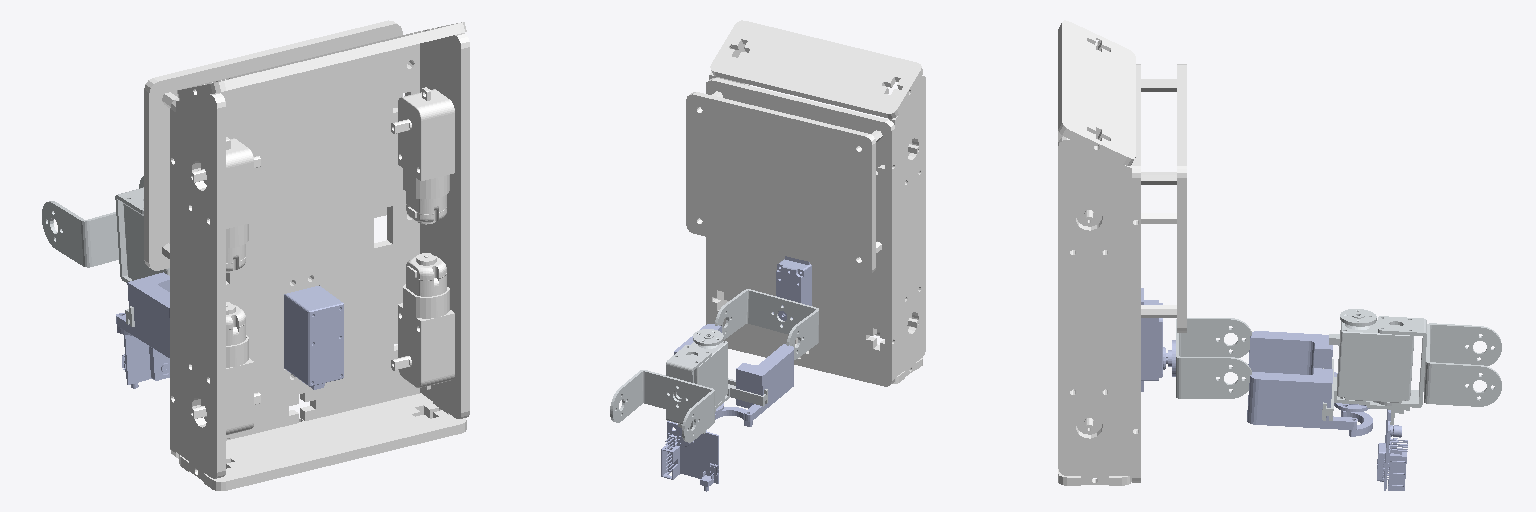
URDF robot description (robot_new):
<?xml version="1.0" encoding="utf-8"?>
<!-- This URDF was automatically created by SolidWorks to URDF Exporter! Originally created by [author] ([email redacted]) 
     Commit Version: 1.6.0-1-g15f4949  Build Version: 1.6.7594.29634
     For more information, please see http://wiki.ros.org/sw_urdf_exporter -->
<robot
  name="robot_new">
  <link
    name="base_link">
    <inertial>
      <origin
        xyz="2.87022176508506E-06 -0.00639288068136572 0.00967770424608871"
        rpy="0 0 0" />
      <mass
        value="0.497669657505291" />
      <inertia
        ixx="0.000851783180399219"
        ixy="6.46330143358181E-17"
        ixz="-6.23492759310972E-09"
        iyy="0.000500153741921466"
        iyz="-5.79025605586052E-06"
        izz="0.00129789764708229" />
    </inertial>
    <visual>
      <origin
        xyz="0 0 0"
        rpy="0 0 0" />
      <geometry>
        <mesh
          filename="package://robot_new/meshes/base_link.STL" />
      </geometry>
      <material
        name="">
        <color
          rgba="1 1 1 0.3" />
      </material>
    </visual>
    <collision>
      <origin
        xyz="0 0 0"
        rpy="0 0 0" />
      <geometry>
        <mesh
          filename="package://robot_new/meshes/base_link.STL" />
      </geometry>
    </collision>
  </link>
  <link
    name="wheel_L1_link">
    <inertial>
      <origin
        xyz="-0.0216007758187577 3.75389996865039E-12 -9.22416777210389E-07"
        rpy="0 0 0" />
      <mass
        value="0.042474382918206" />
      <inertia
        ixx="3.57500681796612E-06"
        ixy="-2.95472805667672E-16"
        ixz="1.17807360696107E-10"
        iyy="3.63018537089276E-06"
        iyz="-2.2638403941711E-15"
        izz="3.63034395206029E-06" />
    </inertial>
    <visual>
      <origin
        xyz="0 0 0"
        rpy="0 0 0" />
      <geometry>
        <mesh
          filename="package://robot_new/meshes/wheel_L1_link.STL" />
      </geometry>
      <material
        name="">
        <color
          rgba="0.831372549019608 0.670588235294118 0.129411764705882 1" />
      </material>
    </visual>
    <collision>
      <origin
        xyz="0 0 0"
        rpy="0 0 0" />
      <geometry>
        <mesh
          filename="package://robot_new/meshes/wheel_L1_link.STL" />
      </geometry>
    </collision>
  </link>
  <joint
    name="wheel_L1_link"
    type="continuous">
    <origin
      xyz="-0.066 -0.028021 -0.079221"
      rpy="-1.9687 0 0" />
    <parent
      link="base_link" />
    <child
      link="wheel_L1_link" />
    <axis
      xyz="1 0 0" />
  </joint>
  <link
    name="wheel_L2_link">
    <inertial>
      <origin
        xyz="-0.0216007758188823 -4.42966605458672E-07 -8.09094121395626E-07"
        rpy="0 0 0" />
      <mass
        value="0.0424743829182387" />
      <inertia
        ixx="3.57500681797244E-06"
        ixy="5.65740745429248E-11"
        ixz="1.03334158552787E-10"
        iyy="3.63022194074399E-06"
        iyz="6.67977120597043E-11"
        izz="3.63030738224077E-06" />
    </inertial>
    <visual>
      <origin
        xyz="0 0 0"
        rpy="0 0 0" />
      <geometry>
        <mesh
          filename="package://robot_new/meshes/wheel_L2_link.STL" />
      </geometry>
      <material
        name="">
        <color
          rgba="0.792156862745098 0.819607843137255 0.933333333333333 1" />
      </material>
    </visual>
    <collision>
      <origin
        xyz="0 0 0"
        rpy="0 0 0" />
      <geometry>
        <mesh
          filename="package://robot_new/meshes/wheel_L2_link.STL" />
      </geometry>
    </collision>
  </link>
  <joint
    name="wheel_L2_joint"
    type="continuous">
    <origin
      xyz="-0.066 -0.028021 0.045779"
      rpy="1.6739 0 0" />
    <parent
      link="base_link" />
    <child
      link="wheel_L2_link" />
    <axis
      xyz="1 0 0" />
  </joint>
  <link
    name="wheel_R1_link">
    <inertial>
      <origin
        xyz="-0.0216007759027148 -4.42966605174178E-07 -8.09094120889087E-07"
        rpy="0 0 0" />
      <mass
        value="0.0424743829435536" />
      <inertia
        ixx="3.57500682562334E-06"
        ixy="5.65740745433874E-11"
        ixz="1.03334158552633E-10"
        iyy="3.6302219525341E-06"
        iyz="6.67977120597837E-11"
        izz="3.63030739403088E-06" />
    </inertial>
    <visual>
      <origin
        xyz="0 0 0"
        rpy="0 0 0" />
      <geometry>
        <mesh
          filename="package://robot_new/meshes/wheel_R1_link.STL" />
      </geometry>
      <material
        name="">
        <color
          rgba="0.792156862745098 0.819607843137255 0.933333333333333 1" />
      </material>
    </visual>
    <collision>
      <origin
        xyz="0 0 0"
        rpy="0 0 0" />
      <geometry>
        <mesh
          filename="package://robot_new/meshes/wheel_R1_link.STL" />
      </geometry>
    </collision>
  </link>
  <joint
    name="wheel_R1_link"
    type="continuous">
    <origin
      xyz="0.066 -0.028021 -0.079221"
      rpy="-0.61592 0 3.1416" />
    <parent
      link="base_link" />
    <child
      link="wheel_R1_link" />
    <axis
      xyz="1 0 0" />
  </joint>
  <link
    name="wheel_R2_link">
    <inertial>
      <origin
        xyz="-0.0216007756058552 -4.42966605774392E-07 -8.09094122013188E-07"
        rpy="0 0 0" />
      <mass
        value="0.0424743828860133" />
      <inertia
        ixx="3.57500682962755E-06"
        ixy="5.65740745428516E-11"
        ixz="1.03334158553143E-10"
        iyy="3.63022192320037E-06"
        iyz="6.67977120601013E-11"
        izz="3.63030736469716E-06" />
    </inertial>
    <visual>
      <origin
        xyz="0 0 0"
        rpy="0 0 0" />
      <geometry>
        <mesh
          filename="package://robot_new/meshes/wheel_R2_link.STL" />
      </geometry>
      <material
        name="">
        <color
          rgba="0.792156862745098 0.819607843137255 0.933333333333333 1" />
      </material>
    </visual>
    <collision>
      <origin
        xyz="0 0 0"
        rpy="0 0 0" />
      <geometry>
        <mesh
          filename="package://robot_new/meshes/wheel_R2_link.STL" />
      </geometry>
    </collision>
  </link>
  <joint
    name="wheel_R2_joint"
    type="continuous">
    <origin
      xyz="0.066 -0.028021 0.045779"
      rpy="2.7498 0 3.1416" />
    <parent
      link="base_link" />
    <child
      link="wheel_R2_link" />
    <axis
      xyz="1 0 0" />
  </joint>
  <link
    name="arm_base_link">
    <inertial>
      <origin
        xyz="0.000409242457633803 0.0100004891543178 -0.00064532833159375"
        rpy="0 0 0" />
      <mass
        value="0.0335569271624616" />
      <inertia
        ixx="2.86466699656782E-06"
        ixy="1.44621279598399E-11"
        ixz="4.4862392905134E-08"
        iyy="6.35046586680548E-06"
        iyz="1.32542262641971E-10"
        izz="5.6619535809459E-06" />
    </inertial>
    <visual>
      <origin
        xyz="0 0 0"
        rpy="0 0 0" />
      <geometry>
        <mesh
          filename="package://robot_new/meshes/arm_base_link.STL" />
      </geometry>
      <material
        name="">
        <color
          rgba="0.792156862745098 0.819607843137255 0.933333333333333 1" />
      </material>
    </visual>
    <collision>
      <origin
        xyz="0 0 0"
        rpy="0 0 0" />
      <geometry>
        <mesh
          filename="package://robot_new/meshes/arm_base_link.STL" />
      </geometry>
    </collision>
  </link>
  <joint
    name="arm_base_joint"
    type="fixed">
    <origin
      xyz="-0.0097413 -0.00805 -0.06"
      rpy="1.5708 1.5708 0" />
    <parent
      link="base_link" />
    <child
      link="arm_base_link" />
    <axis
      xyz="0 0 0" />
  </joint>
  <link
    name="arm_link">
    <inertial>
      <origin
        xyz="-7.5764047813287E-16 0.0119191306326669 0"
        rpy="0 0 0" />
      <mass
        value="0.0161811130872279" />
      <inertia
        ixx="3.3532986962083E-06"
        ixy="3.18702305929956E-21"
        ixz="-6.75641124333313E-21"
        iyy="9.34525230106503E-06"
        iyz="8.58840423453778E-22"
        izz="1.11164067282418E-05" />
    </inertial>
    <visual>
      <origin
        xyz="0 0 0"
        rpy="0 0 0" />
      <geometry>
        <mesh
          filename="package://robot_new/meshes/arm_link.STL" />
      </geometry>
      <material
        name="">
        <color
          rgba="0.894117647058823 0.913725490196078 0.929411764705882 1" />
      </material>
    </visual>
    <collision>
      <origin
        xyz="0 0 0"
        rpy="0 0 0" />
      <geometry>
        <mesh
          filename="package://robot_new/meshes/arm_link.STL" />
      </geometry>
    </collision>
  </link>
  <joint
    name="arm_joint"
    type="revolute">
    <origin
      xyz="0.010991 0.01 -0.02715"
      rpy="-1.5708 0 -1.5393" />
    <parent
      link="arm_base_link" />
    <child
      link="arm_link" />
    <axis
      xyz="0 1 0" />
    <limit
      lower="0"
      upper="3.14"
      effort="0"
      velocity="0" />
  </joint>
  <link
    name="arm_link_2">
    <inertial>
      <origin
        xyz="-0.047845528679592 -0.000153782337675032 0.00102202919595453"
        rpy="0 0 0" />
      <mass
        value="0.0909540958388824" />
      <inertia
        ixx="1.49540386290846E-05"
        ixy="-8.45529532700626E-08"
        ixz="5.44667922294372E-15"
        iyy="2.35225072608537E-05"
        iyz="-3.98052124604929E-16"
        izz="1.49935446329835E-05" />
    </inertial>
    <visual>
      <origin
        xyz="0 0 0"
        rpy="0 0 0" />
      <geometry>
        <mesh
          filename="package://robot_new/meshes/arm_link_2.STL" />
      </geometry>
      <material
        name="">
        <color
          rgba="0.792156862745098 0.819607843137255 0.933333333333333 1" />
      </material>
    </visual>
    <collision>
      <origin
        xyz="0 0 0"
        rpy="0 0 0" />
      <geometry>
        <mesh
          filename="package://robot_new/meshes/arm_link_2.STL" />
      </geometry>
    </collision>
  </link>
  <joint
    name="arm_joint_2"
    type="continuous">
    <origin
      xyz="0 0.03 0"
      rpy="-1.5708 0.013773 -1.5708" />
    <parent
      link="arm_link" />
    <child
      link="arm_link_2" />
    <axis
      xyz="0 0 1" />
    <limit
      lower="0"
      upper="3.14"
      effort="0"
      velocity="0" />
  </joint>
  <link
    name="gripper_base_link">
    <inertial>
      <origin
        xyz="3.68191968224893E-08 -0.0164423050943715 0.00137359079403292"
        rpy="0 0 0" />
      <mass
        value="0.0579011557758669" />
      <inertia
        ixx="1.04429253549904E-05"
        ixy="1.50620194739418E-10"
        ixz="1.47707178304849E-11"
        iyy="1.34523506938754E-05"
        iyz="-1.58685694977155E-07"
        izz="1.90358969764955E-05" />
    </inertial>
    <visual>
      <origin
        xyz="0 0 0"
        rpy="0 0 0" />
      <geometry>
        <mesh
          filename="package://robot_new/meshes/gripper_base_link.STL" />
      </geometry>
      <material
        name="">
        <color
          rgba="0.894117647058823 0.913725490196078 0.929411764705882 1" />
      </material>
    </visual>
    <collision>
      <origin
        xyz="0 0 0"
        rpy="0 0 0" />
      <geometry>
        <mesh
          filename="package://robot_new/meshes/gripper_base_link.STL" />
      </geometry>
    </collision>
  </link>
  <joint
    name="gripper_base_joint"
    type="fixed">
    <origin
      xyz="-0.10575 -0.0014342 0"
      rpy="1.6186 -1.5708 0" />
    <parent
      link="arm_link_2" />
    <child
      link="gripper_base_link" />
    <axis
      xyz="0 0 0" />
  </joint>
  <link
    name="gripper_handle_link">
    <inertial>
      <origin
        xyz="1.11862472076951E-06 -4.2727914470464E-07 -0.00233220047683527"
        rpy="0 0 0" />
      <mass
        value="0.000623634723201167" />
      <inertia
        ixx="1.56071870947179E-08"
        ixy="-1.31823523713639E-15"
        ixz="-5.45981322565633E-13"
        iyy="1.56071803442588E-08"
        iyz="-5.82801102072764E-14"
        izz="3.02526102531486E-08" />
    </inertial>
    <visual>
      <origin
        xyz="0 0 0"
        rpy="0 0 0" />
      <geometry>
        <mesh
          filename="package://robot_new/meshes/gripper_handle_link.STL" />
      </geometry>
      <material
        name="">
        <color
          rgba="0.792156862745098 0.819607843137255 0.933333333333333 1" />
      </material>
    </visual>
    <collision>
      <origin
        xyz="0 0 0"
        rpy="0 0 0" />
      <geometry>
        <mesh
          filename="package://robot_new/meshes/gripper_handle_link.STL" />
      </geometry>
    </collision>
  </link>
  <joint
    name="gripper_handle_joint"
    type="revolute">
    <origin
      xyz="0 -0.0379 0.0236"
      rpy="-3.1416 0 2.1394" />
    <parent
      link="gripper_base_link" />
    <child
      link="gripper_handle_link" />
    <axis
      xyz="0 0 1" />
    <limit
      lower="0"
      upper="3.14"
      effort="0"
      velocity="0" />
  </joint>
  <link
    name="gripper_handle_L_link">
    <inertial>
      <origin
        xyz="-4.85722573273506E-15 0.00842034285243953 0.00200000000000517"
        rpy="0 0 0" />
      <mass
        value="0.000742729006421988" />
      <inertia
        ixx="1.19700935013719E-08"
        ixy="-3.89808863665614E-23"
        ixz="-5.78380193933562E-24"
        iyy="5.81202162998421E-08"
        iyz="-1.30280946477102E-23"
        izz="6.8109699117422E-08" />
    </inertial>
    <visual>
      <origin
        xyz="0 0 0"
        rpy="0 0 0" />
      <geometry>
        <mesh
          filename="package://robot_new/meshes/gripper_handle_L_link.STL" />
      </geometry>
      <material
        name="">
        <color
          rgba="0.792156862745098 0.819607843137255 0.933333333333333 1" />
      </material>
    </visual>
    <collision>
      <origin
        xyz="0 0 0"
        rpy="0 0 0" />
      <geometry>
        <mesh
          filename="package://robot_new/meshes/gripper_handle_L_link.STL" />
      </geometry>
    </collision>
  </link>
  <joint
    name="gripper_handle_L_joint"
    type="revolute">
    <origin
      xyz="-0.0063494 0.017867 -0.0081496"
      rpy="0 0 2.2631" />
    <parent
      link="gripper_handle_link" />
    <child
      link="gripper_handle_L_link" />
    <axis
      xyz="0 0 0" />
    <limit
      lower="0"
      upper="3.14"
      effort="0"
      velocity="0" />
  </joint>
  <link
    name="gripper_handle_L2_link">
    <inertial>
      <origin
        xyz="0.00338981962827403 0.00338115283121848 0.0133462468888159"
        rpy="0 0 0" />
      <mass
        value="0.0144466642405174" />
      <inertia
        ixx="1.2504094382989E-06"
        ixy="2.88638553925151E-07"
        ixz="8.14012350999121E-08"
        iyy="3.69756625611567E-06"
        iyz="2.45888791637612E-08"
        izz="3.07872645620185E-06" />
    </inertial>
    <visual>
      <origin
        xyz="0 0 0"
        rpy="0 0 0" />
      <geometry>
        <mesh
          filename="package://robot_new/meshes/gripper_handle_L2_link.STL" />
      </geometry>
      <material
        name="">
        <color
          rgba="0.792156862745098 0.819607843137255 0.933333333333333 1" />
      </material>
    </visual>
    <collision>
      <origin
        xyz="0 0 0"
        rpy="0 0 0" />
      <geometry>
        <mesh
          filename="package://robot_new/meshes/gripper_handle_L2_link.STL" />
      </geometry>
    </collision>
  </link>
  <joint
    name="gripper_handle_L2_link"
    type="revolute">
    <origin
      xyz="0.0098908 0.038092 0.004"
      rpy="0 0 -1.6944" />
    <parent
      link="gripper_handle_L_link" />
    <child
      link="gripper_handle_L2_link" />
    <axis
      xyz="0 0 1" />
    <limit
      lower="0"
      upper="3.14"
      effort="0"
      velocity="0" />
  </joint>
  <link
    name="gripper_handle_R_link">
    <inertial>
      <origin
        xyz="-2.52228793407028E-14 0.00842034285248741 0.00199999999998979"
        rpy="0 0 0" />
      <mass
        value="0.000742729006421985" />
      <inertia
        ixx="1.19700935013717E-08"
        ixy="-1.17744197113248E-19"
        ixz="-2.53349911988507E-22"
        iyy="5.8120216299842E-08"
        iyz="-2.3843481156841E-22"
        izz="6.81096991174218E-08" />
    </inertial>
    <visual>
      <origin
        xyz="0 0 0"
        rpy="0 0 0" />
      <geometry>
        <mesh
          filename="package://robot_new/meshes/gripper_handle_R_link.STL" />
      </geometry>
      <material
        name="">
        <color
          rgba="0.792156862745098 0.819607843137255 0.933333333333333 1" />
      </material>
    </visual>
    <collision>
      <origin
        xyz="0 0 0"
        rpy="0 0 0" />
      <geometry>
        <mesh
          filename="package://robot_new/meshes/gripper_handle_R_link.STL" />
      </geometry>
    </collision>
  </link>
  <joint
    name="gripper_handle_R_joint"
    type="revolute">
    <origin
      xyz="0.0068923 -0.017528 -0.0041496"
      rpy="3.1416 0 2.3138" />
    <parent
      link="gripper_handle_link" />
    <child
      link="gripper_handle_R_link" />
    <axis
      xyz="0 0 0" />
    <limit
      lower="0"
      upper="3.14"
      effort="0"
      velocity="0" />
  </joint>
  <link
    name="gripper_handle_R2_link">
    <inertial>
      <origin
        xyz="0.00340716109696093 0.00337589503360927 0.0136585678713081"
        rpy="0 0 0" />
      <mass
        value="0.0144691642405174" />
      <inertia
        ixx="1.25166959776754E-06"
        ixy="2.89485621888409E-07"
        ixz="-8.21769266099686E-08"
        iyy="3.7001760402048E-06"
        iyz="-2.4353695562435E-08"
        izz="3.08208972958961E-06" />
    </inertial>
    <visual>
      <origin
        xyz="0 0 0"
        rpy="0 0 0" />
      <geometry>
        <mesh
          filename="package://robot_new/meshes/gripper_handle_R2_link.STL" />
      </geometry>
      <material
        name="">
        <color
          rgba="0.792156862745098 0.819607843137255 0.933333333333333 1" />
      </material>
    </visual>
    <collision>
      <origin
        xyz="0 0 0"
        rpy="0 0 0" />
      <geometry>
        <mesh
          filename="package://robot_new/meshes/gripper_handle_R2_link.STL" />
      </geometry>
    </collision>
  </link>
  <joint
    name="gripper_handle_R2_joint"
    type="revolute">
    <origin
      xyz="0.00059329 -0.031747 -0.027"
      rpy="0 0 1.7452" />
    <parent
      link="gripper_handle_R_link" />
    <child
      link="gripper_handle_R2_link" />
    <axis
      xyz="0 0 -1" />
    <limit
      lower="0"
      upper="3.14"
      effort="0"
      velocity="0" />
  </joint>
  <link
    name="camera_link">
    <inertial>
      <origin
        xyz="-0.00186319094565714 -0.000148917381217112 -0.00257399330896596"
        rpy="0 0 0" />
      <mass
        value="0.0044910612915397" />
      <inertia
        ixx="3.47246489196688E-07"
        ixy="-2.92050362478453E-10"
        ixz="-2.10429943922637E-09"
        iyy="6.18158335014519E-07"
        iyz="-9.34674831291002E-11"
        izz="2.88843269142911E-07" />
    </inertial>
    <visual>
      <origin
        xyz="0 0 0"
        rpy="0 0 0" />
      <geometry>
        <mesh
          filename="package://robot_new/meshes/camera_link.STL" />
      </geometry>
      <material
        name="">
        <color
          rgba="0.792156862745098 0.819607843137255 0.933333333333333 1" />
      </material>
    </visual>
    <collision>
      <origin
        xyz="0 0 0"
        rpy="0 0 0" />
      <geometry>
        <mesh
          filename="package://robot_new/meshes/camera_link.STL" />
      </geometry>
    </collision>
  </link>
  <joint
    name="camera_joint"
    type="fixed">
    <origin
      xyz="0 -0.016834 0.051"
      rpy="3.1416 0 0" />
    <parent
      link="gripper_base_link" />
    <child
      link="camera_link" />
    <axis
      xyz="0 0 0" />
  </joint>
</robot>

--- Facts derived from the render (not from the file) ---
Views: 3 orthographic renders of the robot side by side, from view 1: azimuth 30°, elevation 25°; view 2: azimuth 150°, elevation 25°; view 3: azimuth 270°, elevation 25°.
Robot: robot_new — 15 links, 14 joints (6 revolute, 5 continuous, 3 fixed); root link base_link; default pose: every joint at zero.
Links seen in each view (by area): view 1: base_link, gripper_base_link, arm_base_link, gripper_handle_L2_link, camera_link; view 2: base_link, gripper_base_link, arm_link, camera_link, gripper_handle_L2_link, arm_base_link; view 3: base_link, gripper_base_link, arm_link, gripper_handle_R2_link, gripper_handle_L2_link, arm_base_link, camera_link.
Boxes of the visible links, x1=… form: base_link: x1=144, y1=20, x2=469, y2=490; gripper_base_link: x1=42, y1=176, x2=169, y2=326; arm_base_link: x1=284, y1=286, x2=343, y2=389; gripper_handle_L2_link: x1=116, y1=272, x2=169, y2=357; camera_link: x1=122, y1=335, x2=169, y2=388; base_link: x1=686, y1=20, x2=925, y2=386; gripper_base_link: x1=610, y1=329, x2=767, y2=442; arm_link: x1=715, y1=289, x2=818, y2=359; camera_link: x1=661, y1=421, x2=718, y2=491; gripper_handle_L2_link: x1=736, y1=344, x2=793, y2=421; arm_base_link: x1=773, y1=256, x2=811, y2=325; base_link: x1=1058, y1=20, x2=1186, y2=485; gripper_base_link: x1=1322, y1=309, x2=1501, y2=424; arm_link: x1=1176, y1=318, x2=1251, y2=398; gripper_handle_R2_link: x1=1247, y1=368, x2=1357, y2=429; gripper_handle_L2_link: x1=1248, y1=331, x2=1337, y2=376; arm_base_link: x1=1141, y1=288, x2=1175, y2=391; camera_link: x1=1377, y1=409, x2=1407, y2=490.
Bounding box of the posed robot: 0.148 × 0.2417 × 0.2476 m (x, y, z).
Meshes: 15 distinct files referenced, 10 mesh visuals loaded (10 binary STL); not drawn: 5 (reference not matched to a file when rendering).